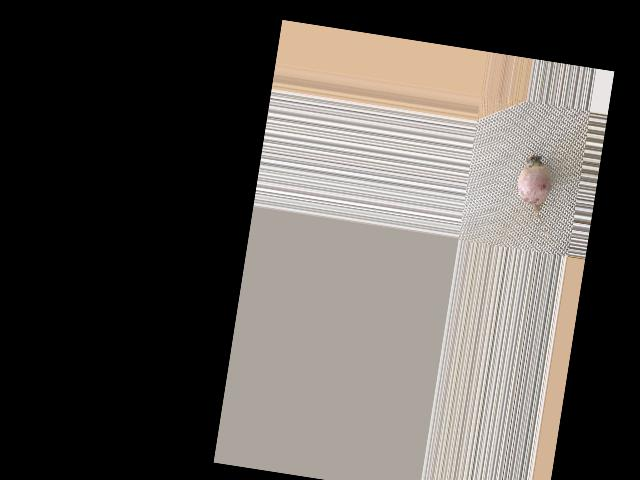beet: (510, 150, 569, 244)
